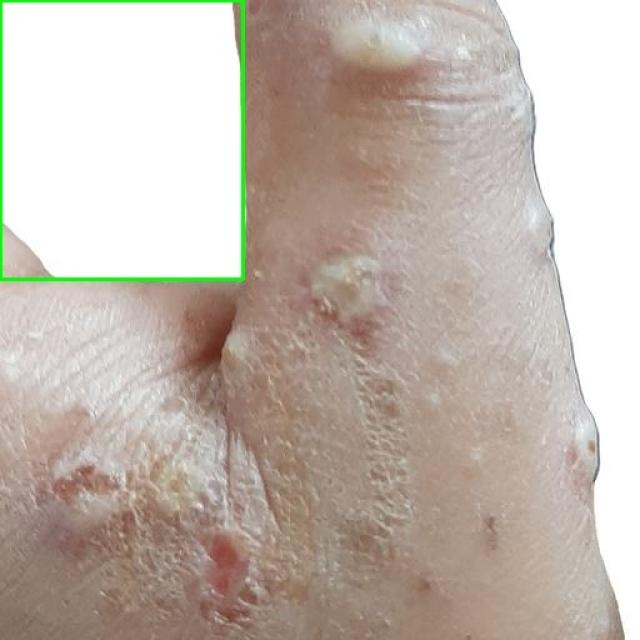Scabies: (0, 0, 242, 279)
